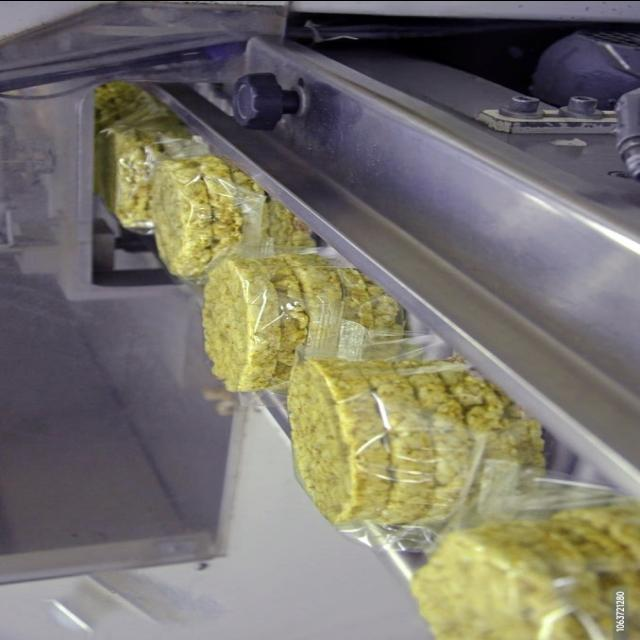food: (284, 358, 560, 536), (192, 248, 396, 388), (150, 152, 308, 275)
